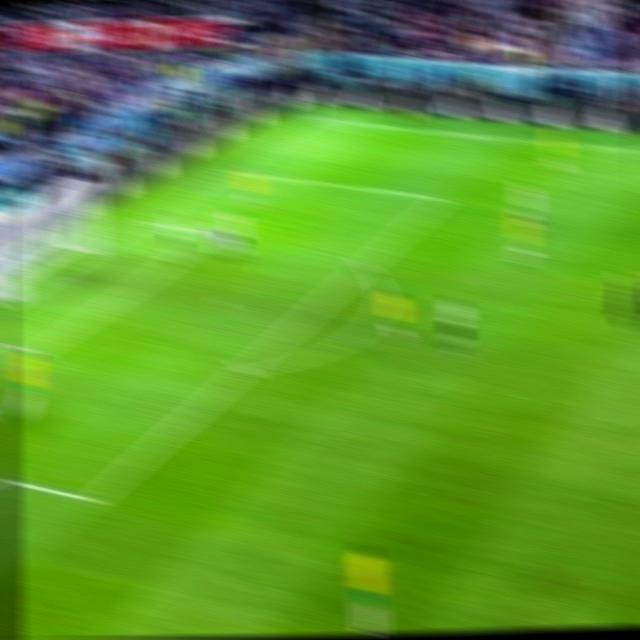bigarea_bottom_inner: (80, 488, 108, 513)
bigarea_top_inner: (428, 189, 455, 209)
bigarea_top_outter: (217, 164, 242, 180)
bottom_arc_area_intersection: (233, 362, 257, 381)
corner: (304, 112, 326, 123)
smallarea_bottom_inner: (28, 344, 48, 359)
smallarea_top_outter: (135, 216, 156, 229)
top_arc_area_intersection: (350, 259, 375, 277)
